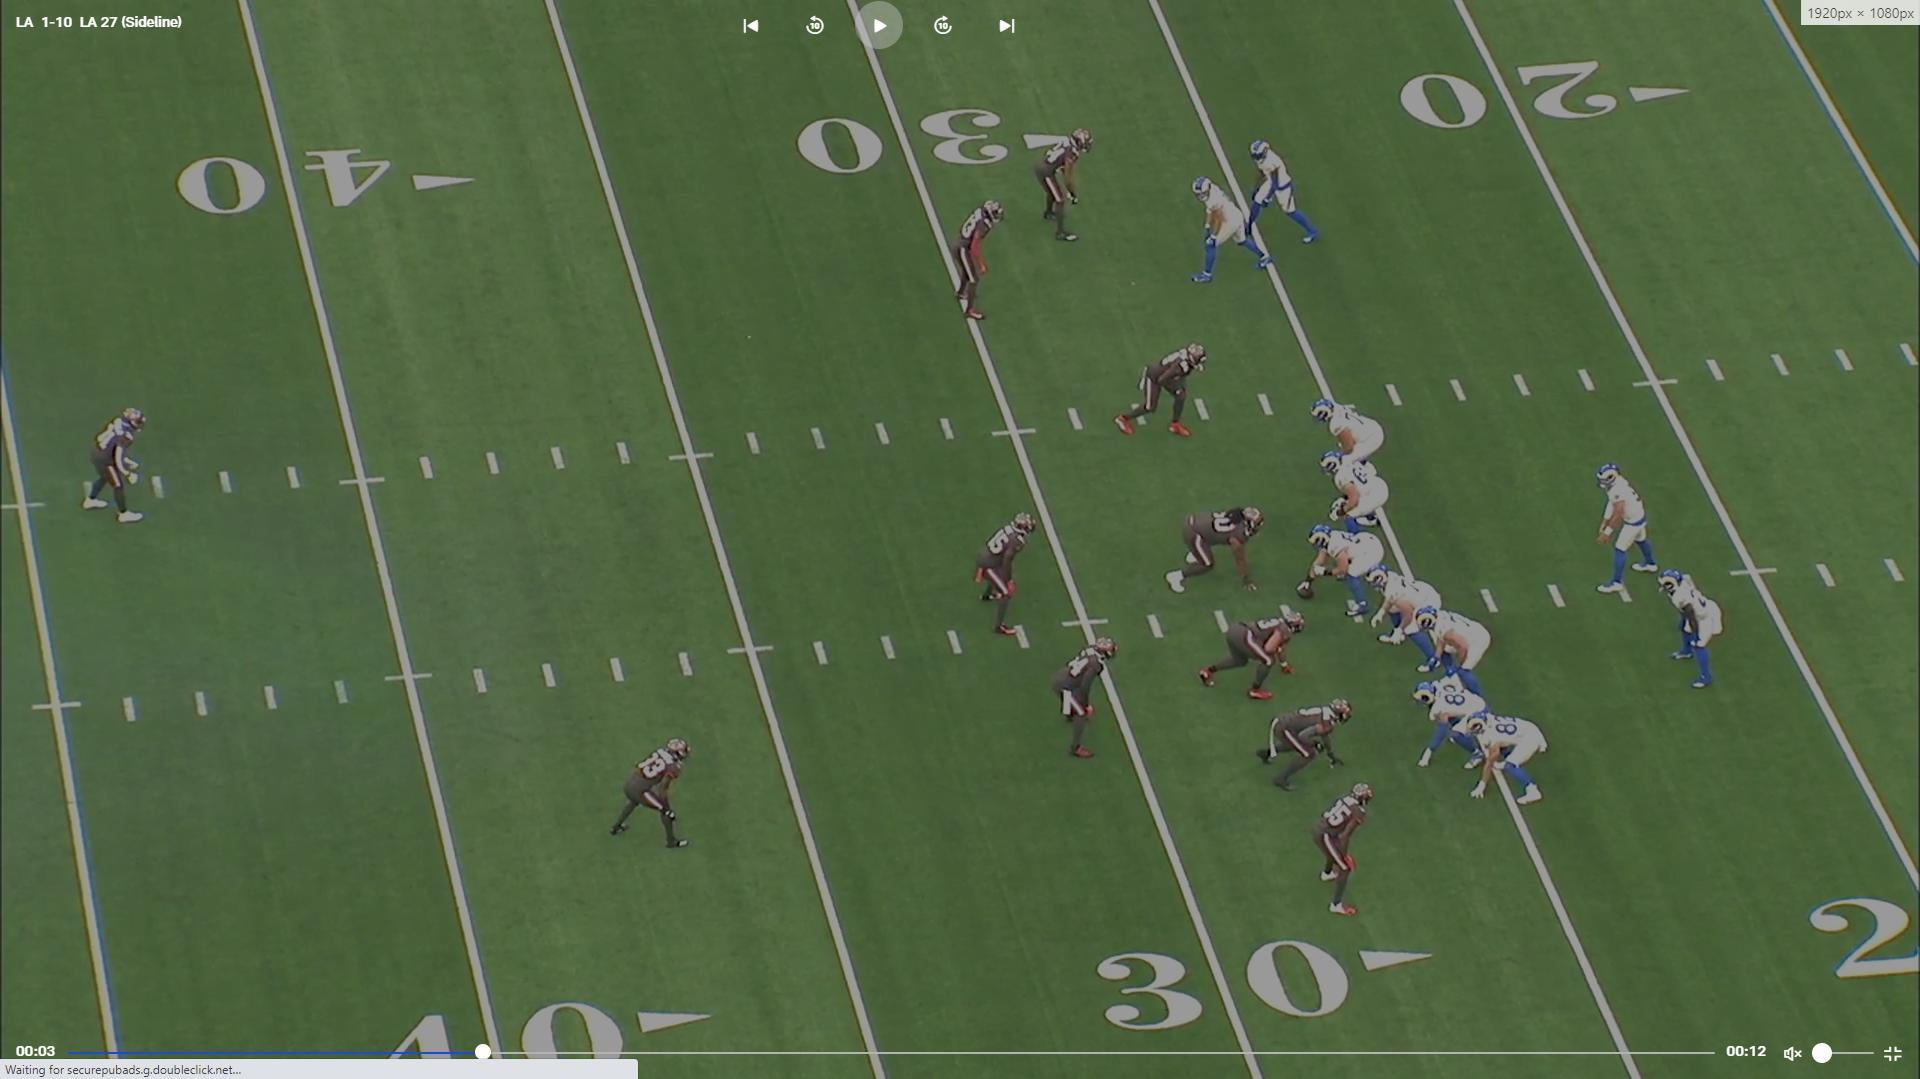player: (608, 732, 699, 856), (1183, 172, 1275, 290), (1196, 610, 1309, 705), (1168, 505, 1274, 600), (1242, 133, 1330, 247), (1591, 456, 1662, 597), (1109, 341, 1206, 444), (1308, 781, 1374, 925), (976, 510, 1043, 648), (1257, 696, 1350, 794), (1052, 633, 1119, 769), (84, 404, 155, 529), (1301, 521, 1395, 615), (1660, 564, 1726, 697), (1463, 711, 1548, 814), (1371, 566, 1445, 668), (1038, 124, 1096, 249), (949, 194, 1003, 327), (1410, 677, 1488, 769), (1421, 605, 1497, 698), (1318, 447, 1393, 535), (1314, 399, 1391, 471)
